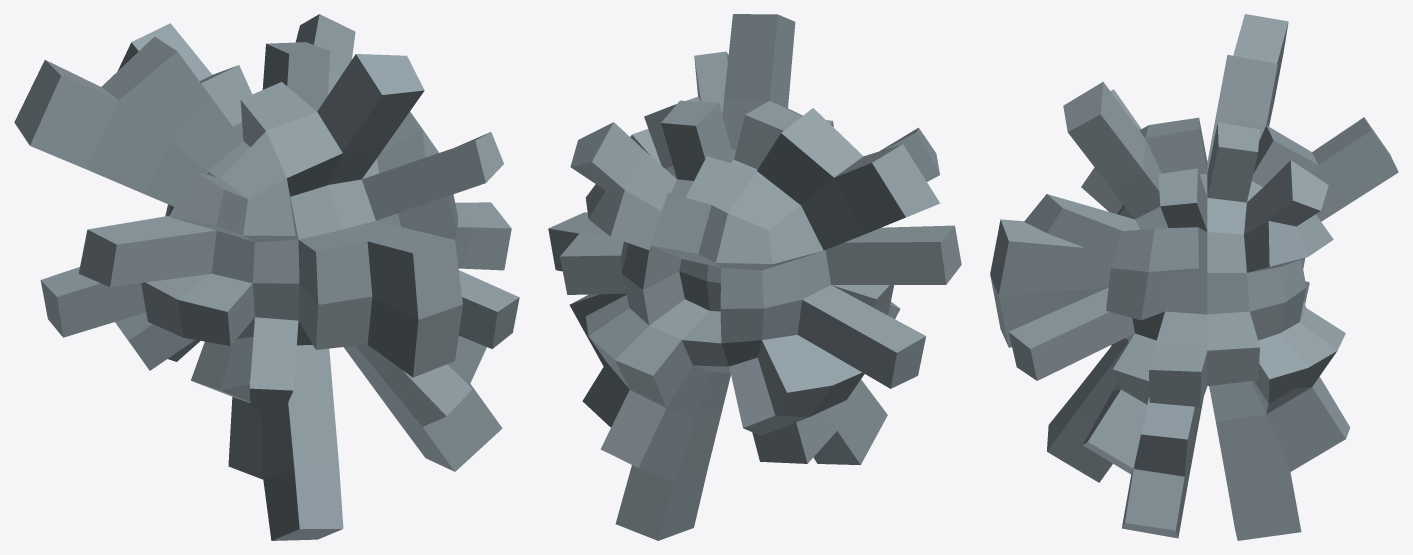
The picture shows the model from 3 angles, left to right: view 1: azimuth 30°, elevation 25°; view 2: azimuth 150°, elevation 25°; view 3: azimuth 270°, elevation 25°; orthographic projection. The views are drawn at different scales.
Parts seen in each view (by area): view 1: Special_Asteroid 1; view 2: Special_Asteroid 1; view 3: Special_Asteroid 1.
Boxes of the visible parts, box(x1,y1,x2,y2) form: Special_Asteroid 1: box(14, 14, 519, 540); Special_Asteroid 1: box(548, 14, 961, 540); Special_Asteroid 1: box(990, 14, 1398, 540).
Size of the model in its own units: 220 by 238 by 200.
1 material, 1 textured.
